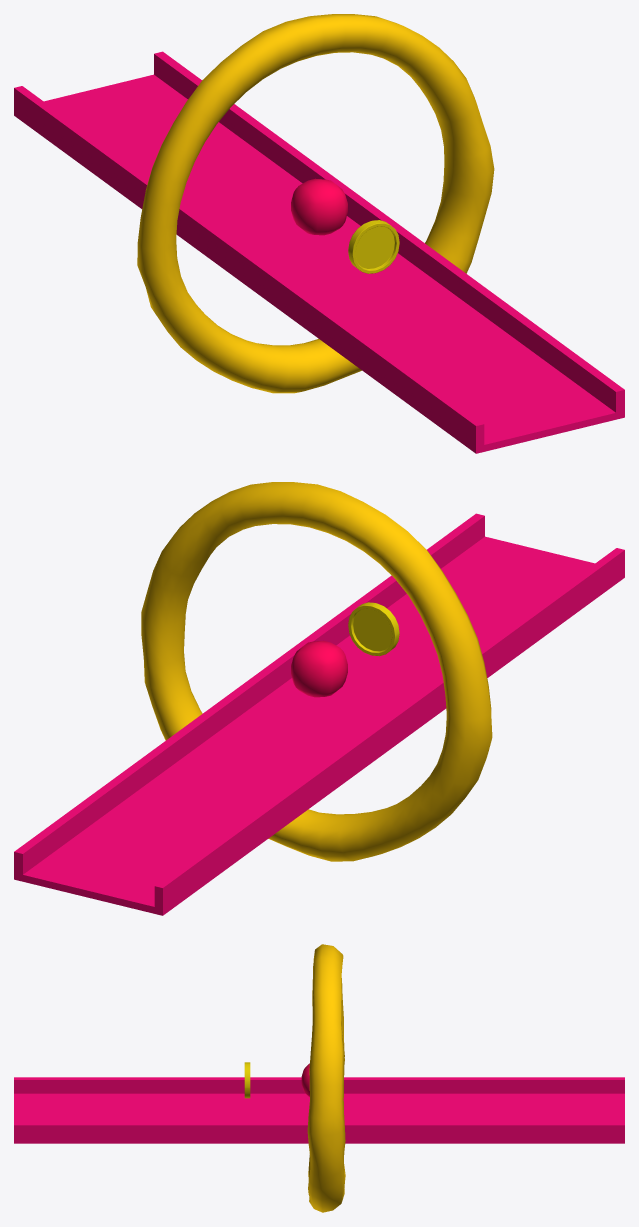
File: changeRoad.fbx
3 views of the same model, one above another, from view 1: azimuth 30°, elevation 25°; view 2: azimuth 150°, elevation 25°; view 3: azimuth 270°, elevation 25° (orthographic). The views are drawn at different scales.
Visible parts, largest first — view 1: Куб.002, Тор, Куб, Куб.001; view 2: Куб.002, Тор, Куб, Куб.001; view 3: Куб.002, Тор.
Part boxes in pixels (left/top/right/bottom): Куб.002: left=14, top=51, right=624, bottom=453; Тор: left=137, top=14, right=494, bottom=393; Куб: left=291, top=178, right=347, bottom=235; Куб.001: left=348, top=220, right=399, bottom=273; Куб.002: left=14, top=513, right=624, bottom=915; Тор: left=141, top=482, right=492, bottom=861; Куб: left=291, top=640, right=347, bottom=697; Куб.001: left=348, top=602, right=399, bottom=656; Куб.002: left=14, top=1077, right=624, bottom=1143; Тор: left=307, top=944, right=345, bottom=1212.
Bounding box in the file's own units: 1484 × 1500 × 3415.
